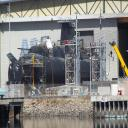submarine: (10, 22, 101, 92)
